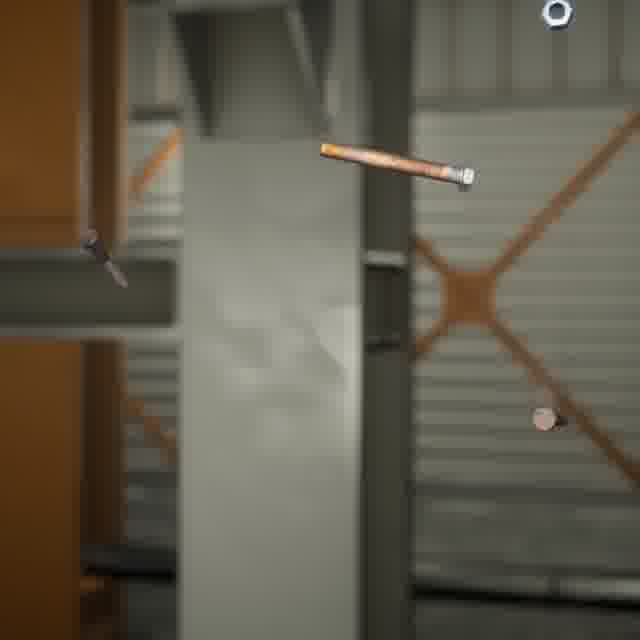bolt: (314, 136, 478, 196), (73, 223, 132, 293), (526, 401, 574, 435)
nut: (536, 0, 578, 35)
